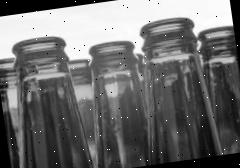glass: (131, 12, 226, 164), (0, 31, 96, 168)
